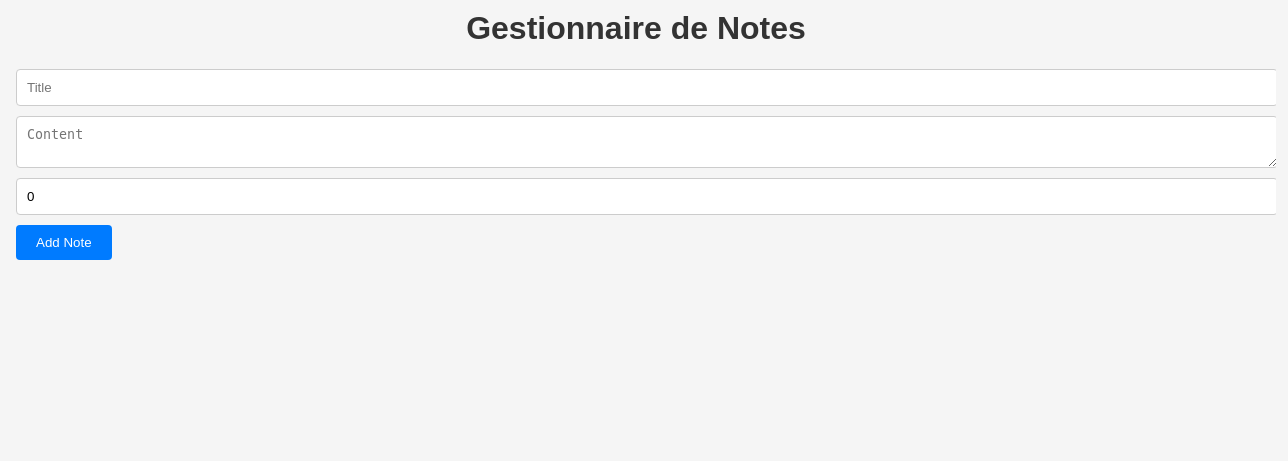
Test: It should delete a note from the list
In the field with placeholder "Title": (646, 87) x1=16 y1=69 x2=1276 y2=106, type "Integration Test Note"
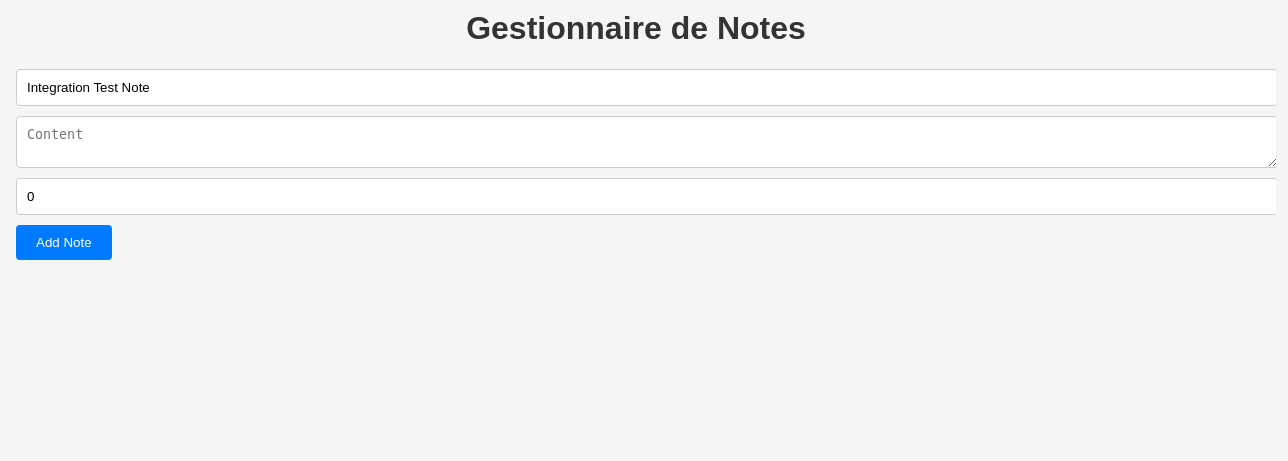
In the text box with placeholder "Content": (646, 142) x1=16 y1=116 x2=1276 y2=168, type "Integration Test Content"
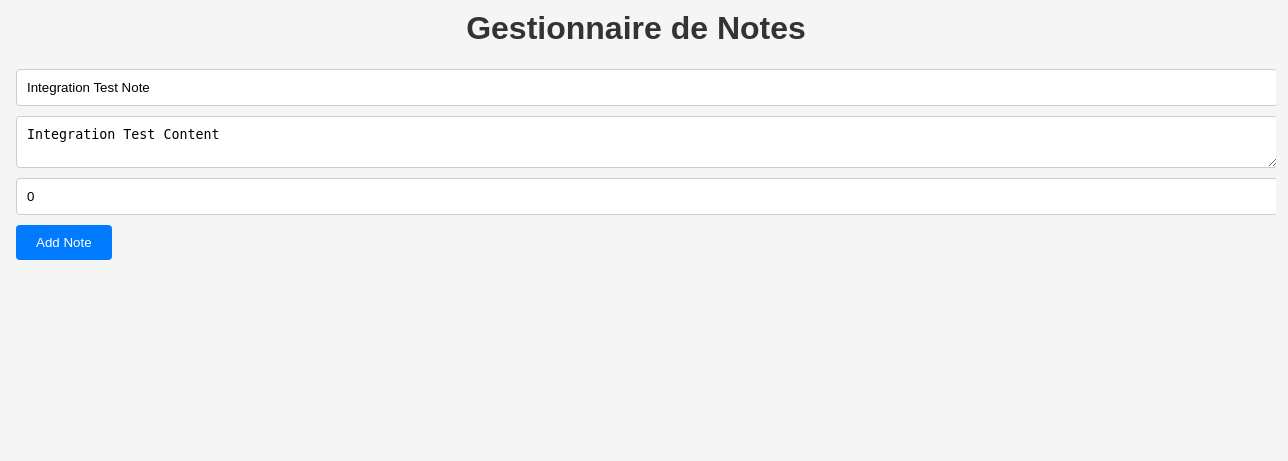
Replace the text in the number field with placeholder "Score" with "12": (646, 196) x1=16 y1=178 x2=1276 y2=215
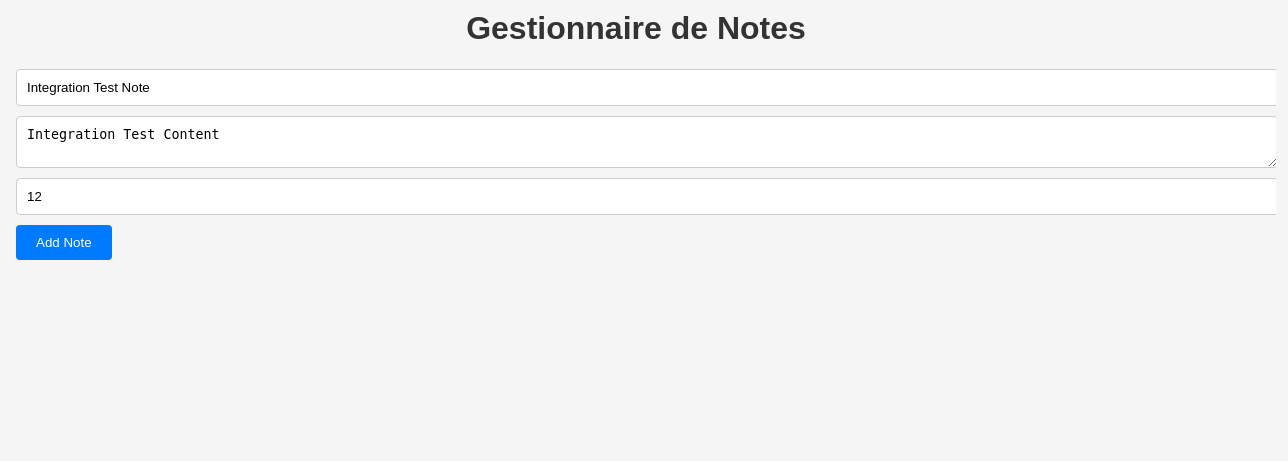
Click the button "Add Note": click(64, 242) x1=16 y1=225 x2=112 y2=260
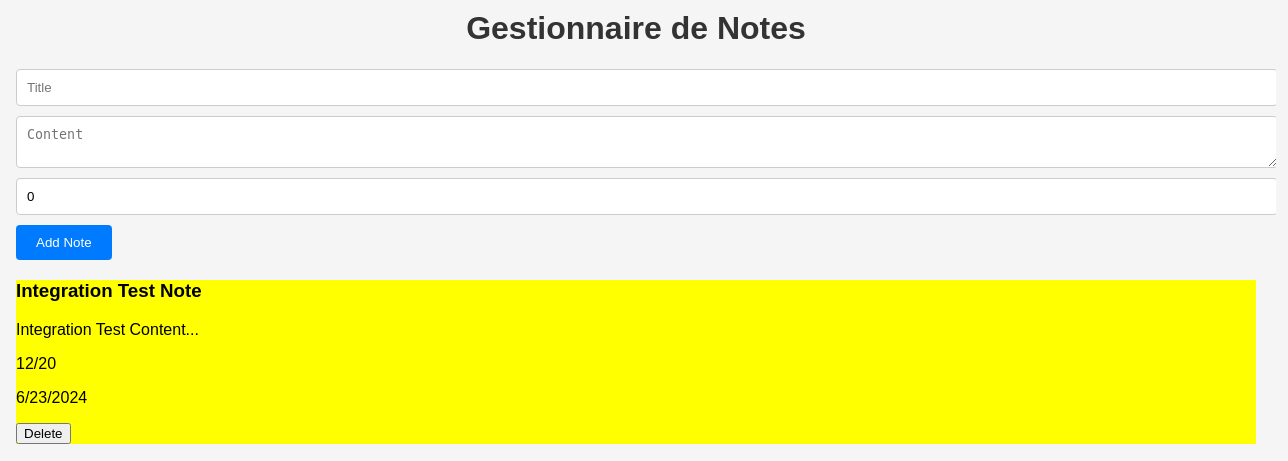
Expected: the heading "Integration Test Note" is shown, x1=16 y1=280 x2=202 y2=301
Click the button "Delete": click(43, 433) x1=16 y1=423 x2=70 y2=444
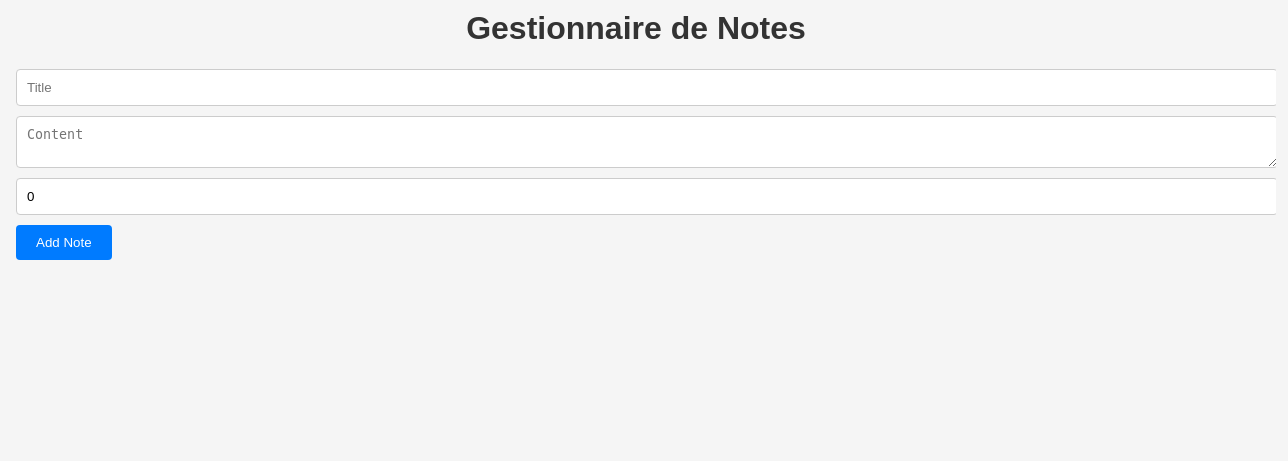
Expected: the heading "Integration Test Note" is gone
